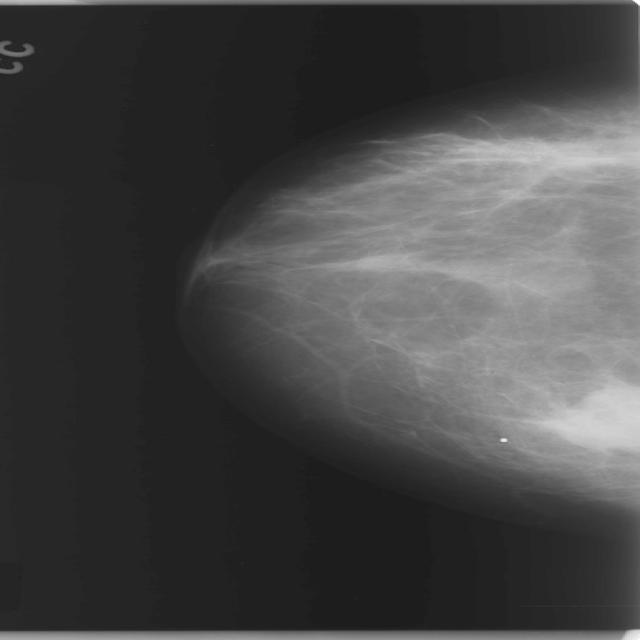tumour: (549, 384, 638, 453)
